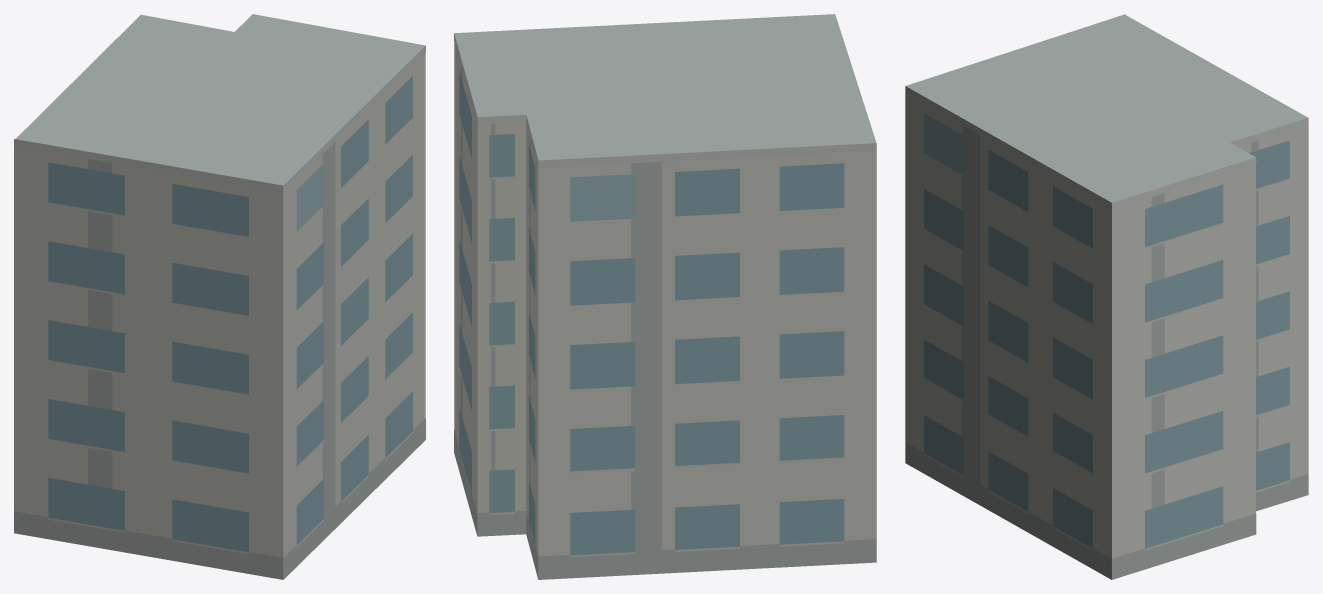
The model's file is survey-upis-33035012.glb.
3 renders of one model, left to right at view 1: azimuth 30°, elevation 25°; view 2: azimuth 150°, elevation 25°; view 3: azimuth 270°, elevation 25°, orthographic. The views are drawn at different scales.
Visible parts, largest first — view 1: survey-upis-33035012.tmp; view 2: survey-upis-33035012.tmp; view 3: survey-upis-33035012.tmp.
Boxes of the visible parts, bbox=[...] form: survey-upis-33035012.tmp: bbox=[14, 14, 425, 579]; survey-upis-33035012.tmp: bbox=[454, 14, 876, 579]; survey-upis-33035012.tmp: bbox=[905, 14, 1308, 579].
Size of the model in its own units: 14.28 by 13.3 by 12.9.
